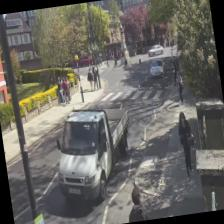person: (176, 110, 196, 172), (124, 186, 148, 222)
